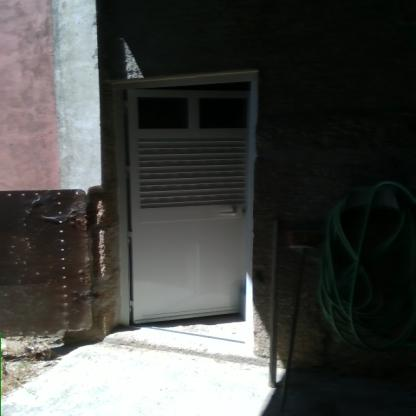semi: (98, 62, 295, 360)
